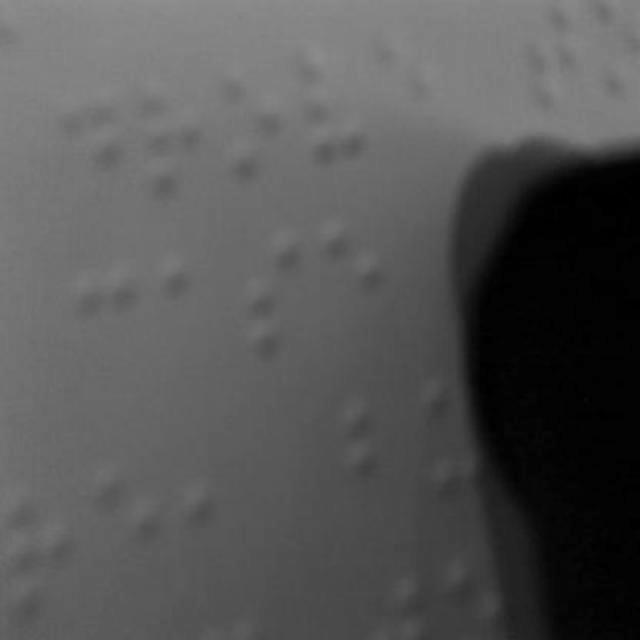braiile: (5, 478, 91, 618), (94, 451, 174, 597), (220, 54, 296, 192), (186, 435, 258, 575), (74, 250, 148, 386), (378, 21, 448, 156), (244, 225, 312, 361), (322, 206, 388, 344), (140, 73, 212, 199), (302, 37, 370, 166), (157, 238, 226, 364), (61, 80, 131, 202)
